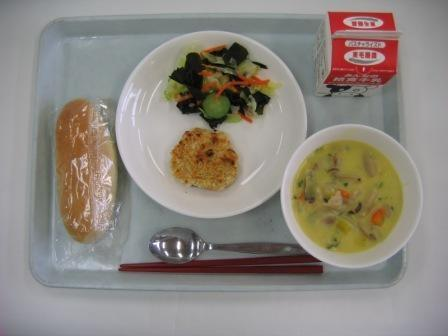Bread: (29, 84, 145, 254)
Fish: (159, 128, 247, 201)
Milk: (305, 6, 410, 107)
Salad: (161, 35, 280, 124)
vegetable soup: (280, 130, 429, 270)
